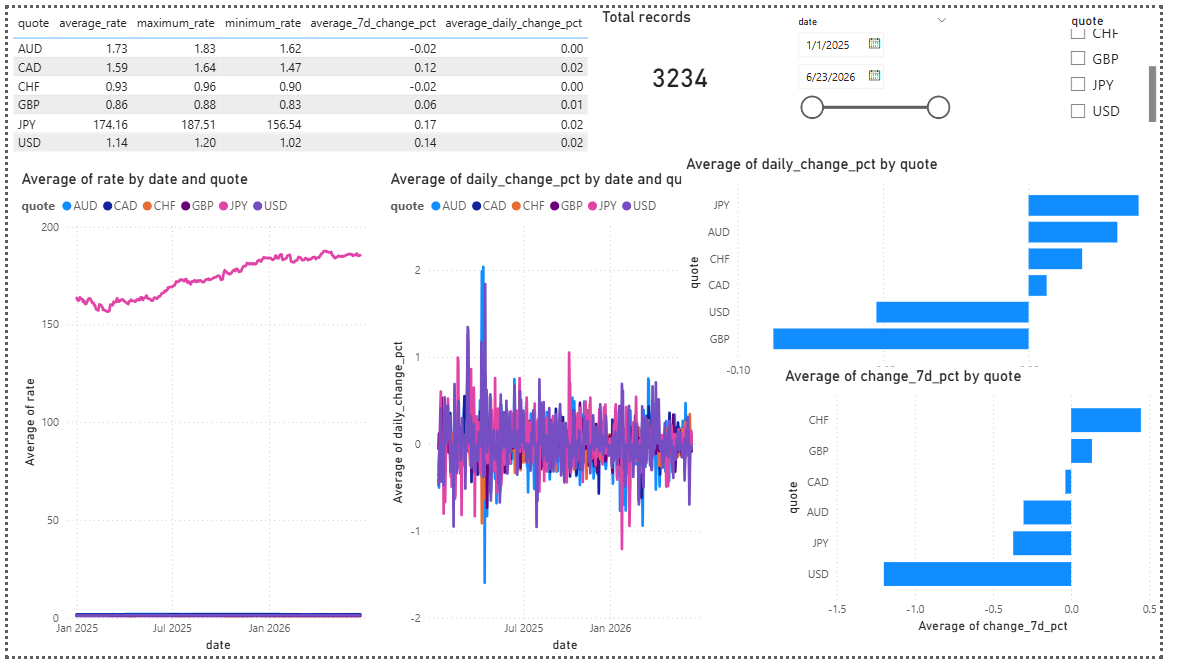

This screenshot's page, from the dashboard's own definition file:
{"tool":"powerbi","page":{"name":"Currency Exchange Rate Dashboard","canvas":[1280,720],"ordinal":0},"visuals":[{"type":"lineChart","fields":{"Y":["Avg(public gold_currency_analysis.rate)"],"Series":["public gold_currency_analysis.quote"],"Category":["public gold_currency_analysis.date"]},"box":[10,180,410,540],"z":1},{"type":"lineChart","fields":{"Category":["public gold_currency_analysis.date"],"Y":["Avg(public gold_currency_analysis.daily_change_pct)"],"Series":["public gold_currency_analysis.quote"]},"box":[420,180,368.3,540],"z":2},{"type":"clusteredBarChart","fields":{"Category":["public gold_daily_movers.quote"],"Y":["Avg(public gold_daily_movers.daily_change_pct)"]},"box":[748.3,163.3,531.7,270],"z":3},{"type":"clusteredBarChart","fields":{"Category":["public gold_latest_exchange_rates.quote"],"Y":["Avg(public gold_latest_exchange_rates.change_7d_pct)"]},"box":[857.5,397.5,422.5,300],"z":4},{"type":"card","title":"Total records","fields":{"Values":["CountNonNull(public gold_currency_analysis.date)"]},"box":[655,0,182.5,132.5],"z":5},{"type":"slicer","fields":{"Values":["public gold_currency_analysis.quote"]},"box":[1167.5,0,112.5,132.5],"z":6},{"type":"slicer","fields":{"Values":["public gold_currency_analysis.date"]},"box":[865,2.5,190,127.5],"z":7},{"type":"tableEx","fields":{"Values":["public gold_currency_summary.quote","public gold_currency_summary.average_rate","public gold_currency_summary.maximum_rate","public gold_currency_summary.minimum_rate","public gold_currency_summary.average_7d_change_pct","public gold_currency_summary.average_daily_change_pct"]},"box":[0,0,655,180],"z":8}]}

Visuals, with their boxes in screenshot pixels (x1, y1, x2, y2), scaled from the page's 1280x720 canvas onto the 1180x664 screenshot:
lineChart - Avg(public gold_currency_analysis.rate) x public gold_currency_analysis.quote: bbox=[9, 166, 387, 663]
lineChart - public gold_currency_analysis.date x Avg(public gold_currency_analysis.daily_change_pct): bbox=[387, 166, 727, 663]
clusteredBarChart - public gold_daily_movers.quote x Avg(public gold_daily_movers.daily_change_pct): bbox=[690, 151, 1179, 400]
clusteredBarChart - public gold_latest_exchange_rates.quote x Avg(public gold_latest_exchange_rates.change_7d_pct): bbox=[791, 367, 1179, 643]
"Total records" card: bbox=[604, 0, 772, 122]
slicer - public gold_currency_analysis.quote: bbox=[1076, 0, 1179, 122]
slicer - public gold_currency_analysis.date: bbox=[797, 2, 973, 120]
tableEx - public gold_currency_summary.quote x public gold_currency_summary.average_rate: bbox=[0, 0, 604, 166]
